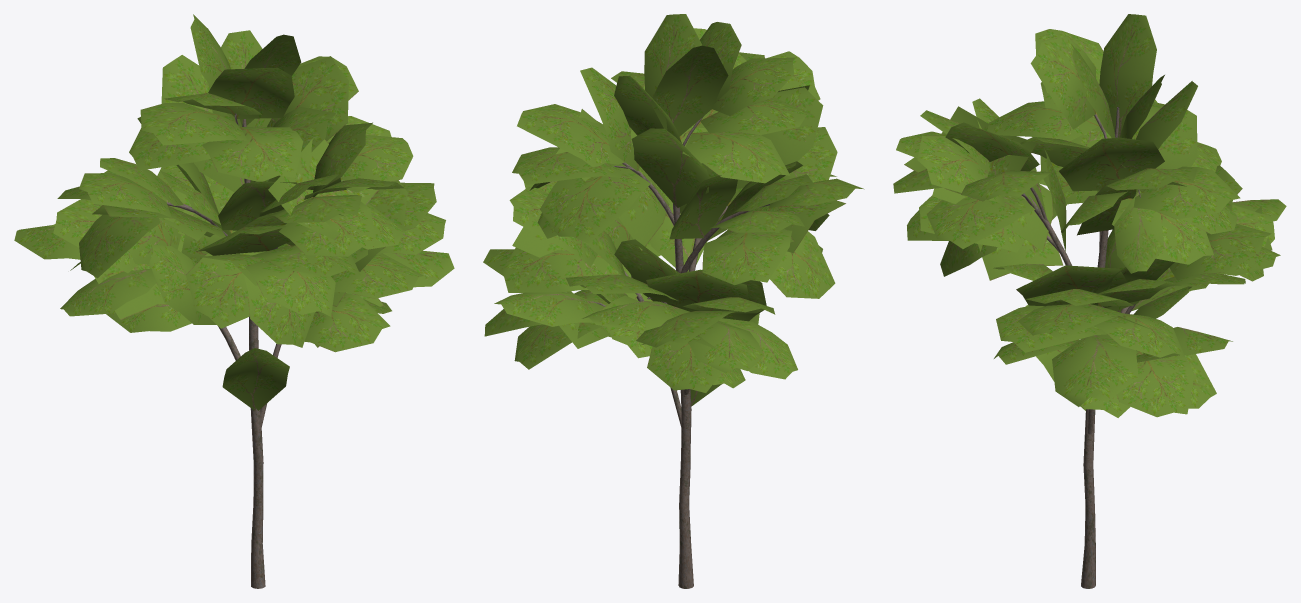
The model's file is tree_1.fbx.
3 views of the same model, side by side, from view 1: azimuth 30°, elevation 25°; view 2: azimuth 150°, elevation 25°; view 3: azimuth 270°, elevation 25° (orthographic). The views are drawn at different scales.
Parts seen in each view (by area): view 1: Object002; view 2: Object002; view 3: Object002.
Boxes of the visible parts, <box> form: Object002: <box>14,14,454,588</box>; Object002: <box>483,14,864,588</box>; Object002: <box>893,14,1286,588</box>.
Size of the model in its own units: 2290 by 3379 by 2179.
